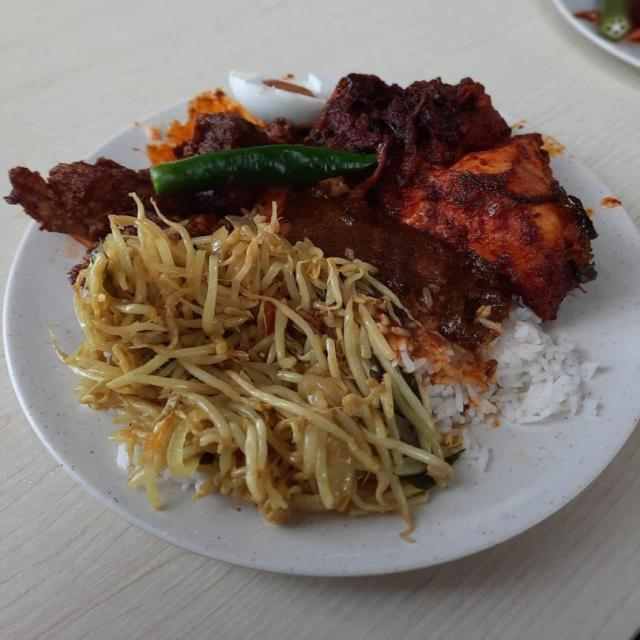Chicken: (321, 72, 596, 315)
Egg: (234, 67, 331, 124)
Plate: (4, 159, 639, 574)
Rice: (183, 190, 593, 458)
Vegetables: (51, 190, 453, 540)
